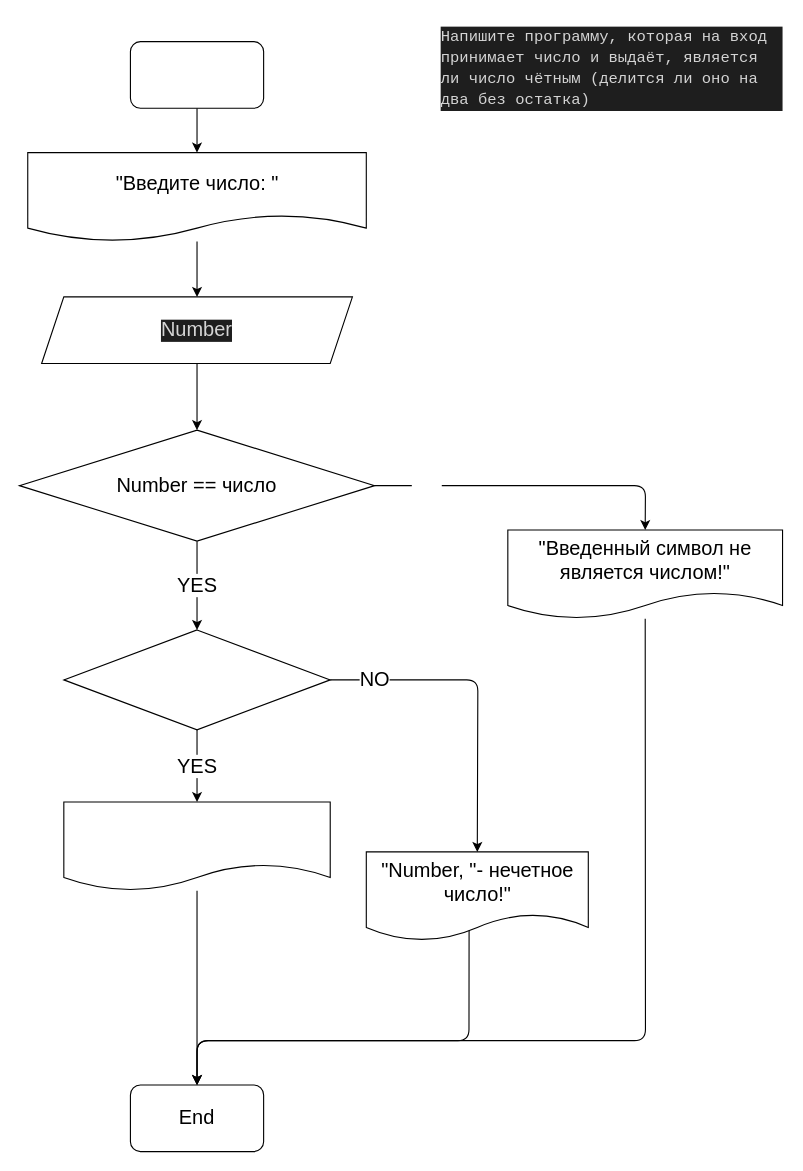
The diagram is 803 pixels wide and 1171 high, and some of its shapes have lost their labels. The centre of each missing label's shape, as x and y in pixels:
Number mod 2 == 0: (x=196, y=679)
Number, "- четное число!": (x=196, y=846)
Start: (x=196, y=74)
